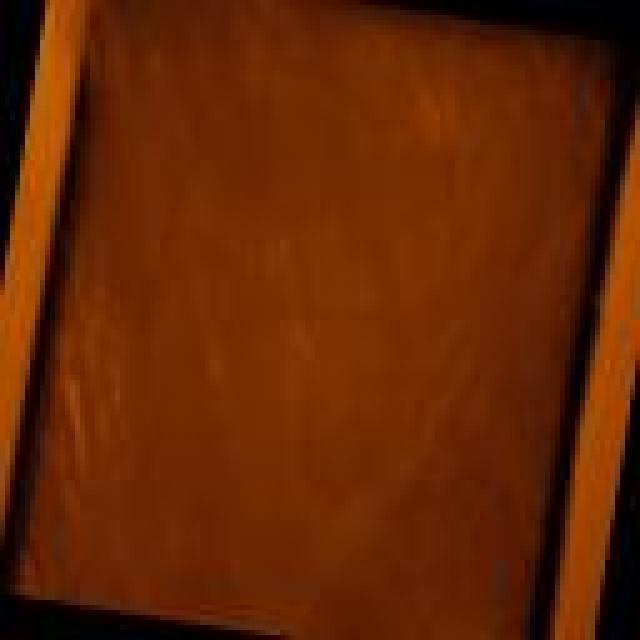Healthy Canis: (10, 0, 615, 640)
